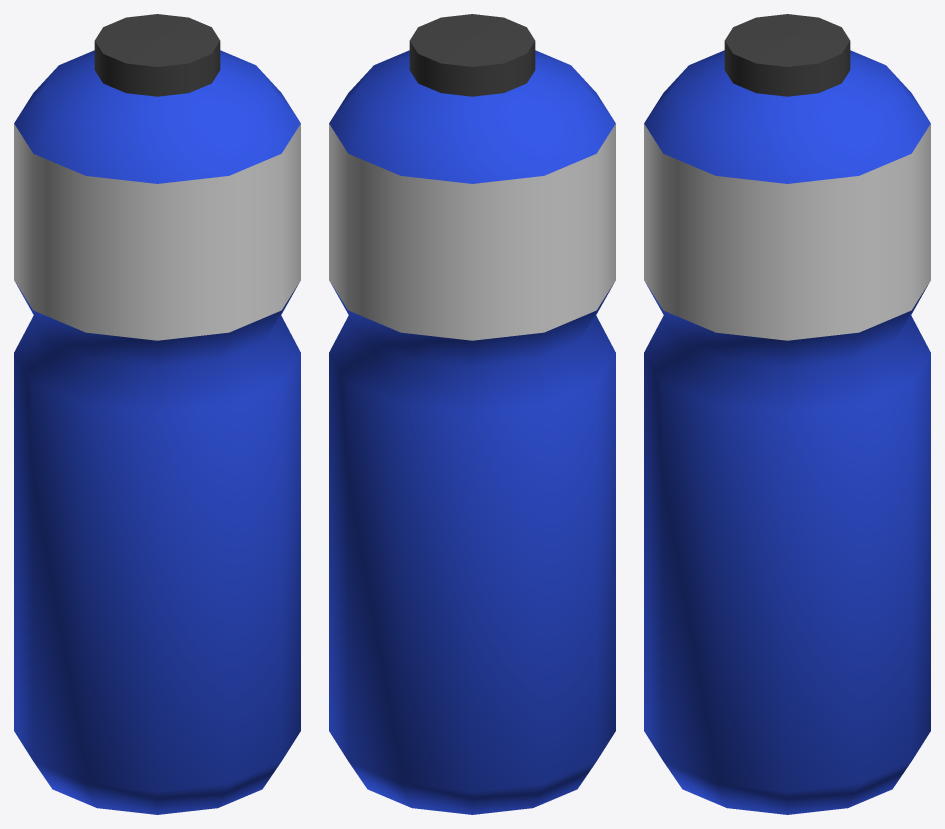
The model's file is Water Bottle.fbx.
3 views of the same model, side by side, from view 1: azimuth 30°, elevation 25°; view 2: azimuth 150°, elevation 25°; view 3: azimuth 270°, elevation 25° (orthographic).
Visible parts, largest first — view 1: Water Bottle; view 2: Water Bottle; view 3: Water Bottle.
Part boxes in pixels (x1,y1,x2,y2): Water Bottle: (14, 14, 300, 814); Water Bottle: (329, 14, 615, 814); Water Bottle: (644, 14, 930, 814).
Bounding box in the file's own units: 46.39 × 129 × 46.39.
